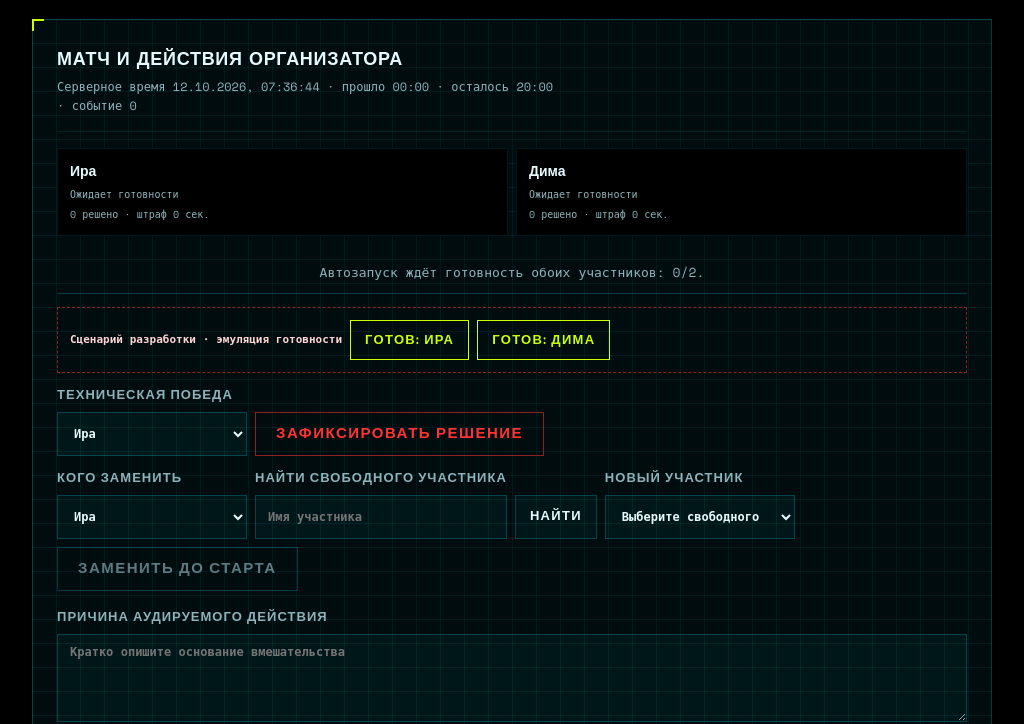
Test: admin bracket and match controls › starts a both-ready match only after readiness from both participants
(page scrolled)
expect the text "Автозапуск ждёт готовность обоих участников: 0/2." is shown: met, box [57,252,967,294]
Click the button "Готов: Ира" at (410, 340), box [350,320,469,360]
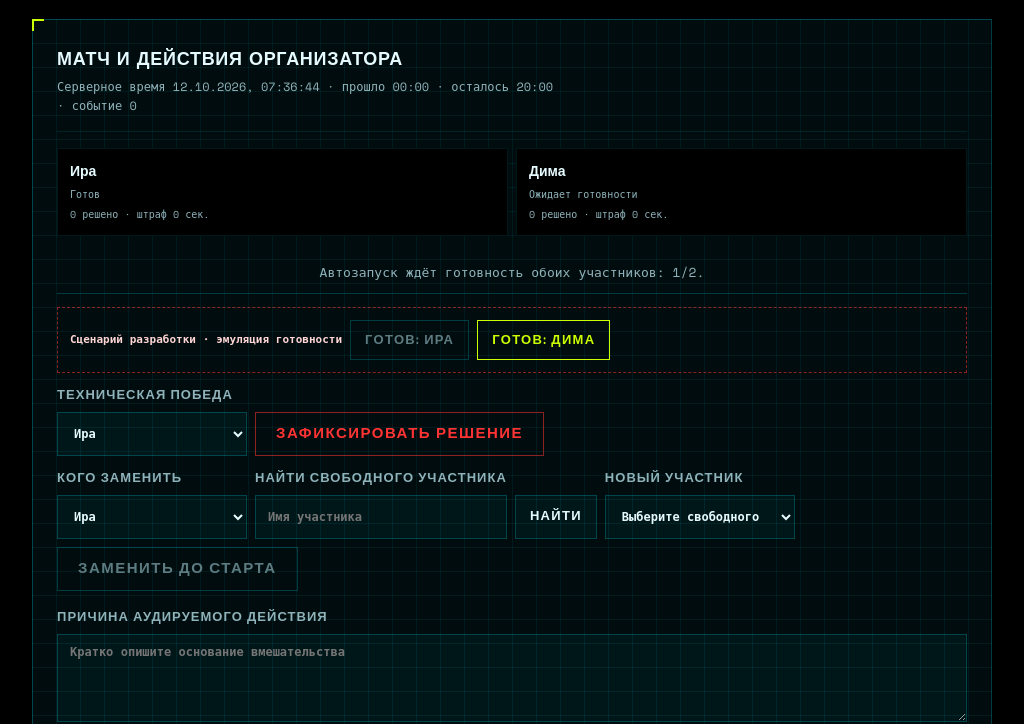
expect the text "Автозапуск ждёт готовность обоих участников: 1/2." is shown: met, box [57,252,967,294]
Click the button "Готов: Дима" at (544, 340), box [477,320,610,360]
(page scrolled)
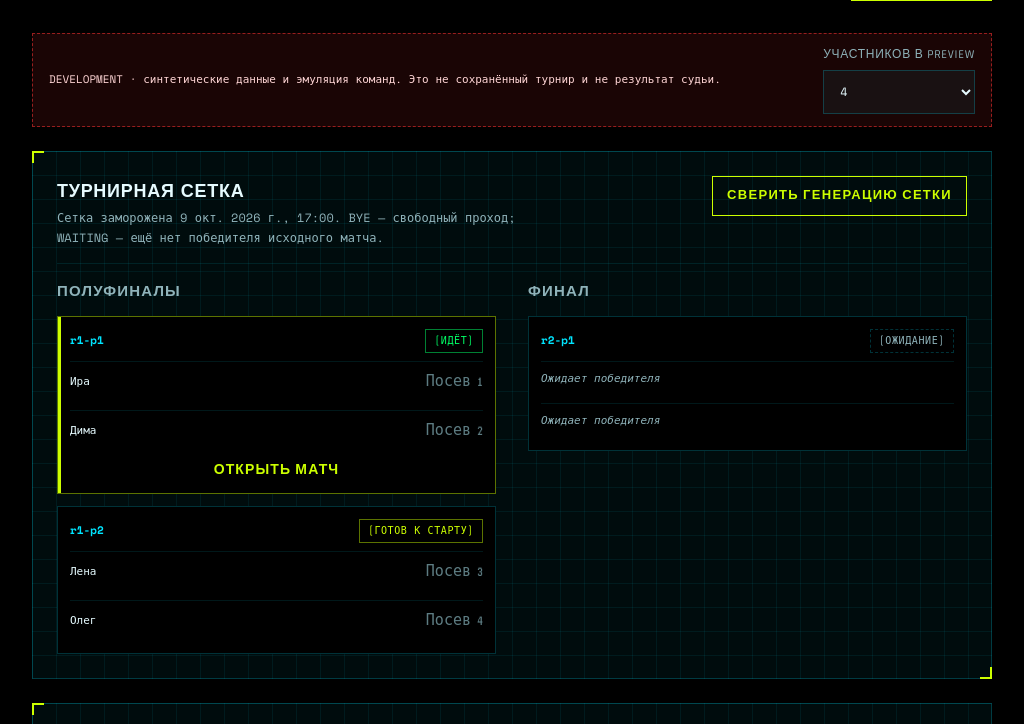
expect the text "Идёт" is shown: met, box [425,329,483,353]
